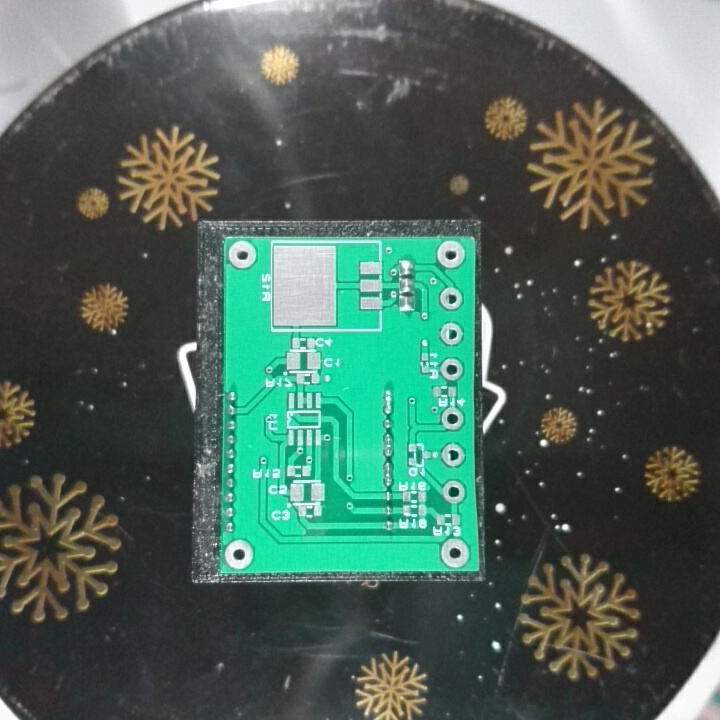F: (437, 536, 473, 569), (226, 238, 261, 271), (434, 239, 468, 272), (222, 538, 256, 571), (439, 441, 468, 469), (438, 286, 466, 314), (437, 320, 465, 348), (441, 478, 469, 506), (438, 356, 465, 383), (439, 406, 466, 432)
P: (379, 459, 396, 487), (381, 388, 397, 416), (382, 432, 397, 460)
